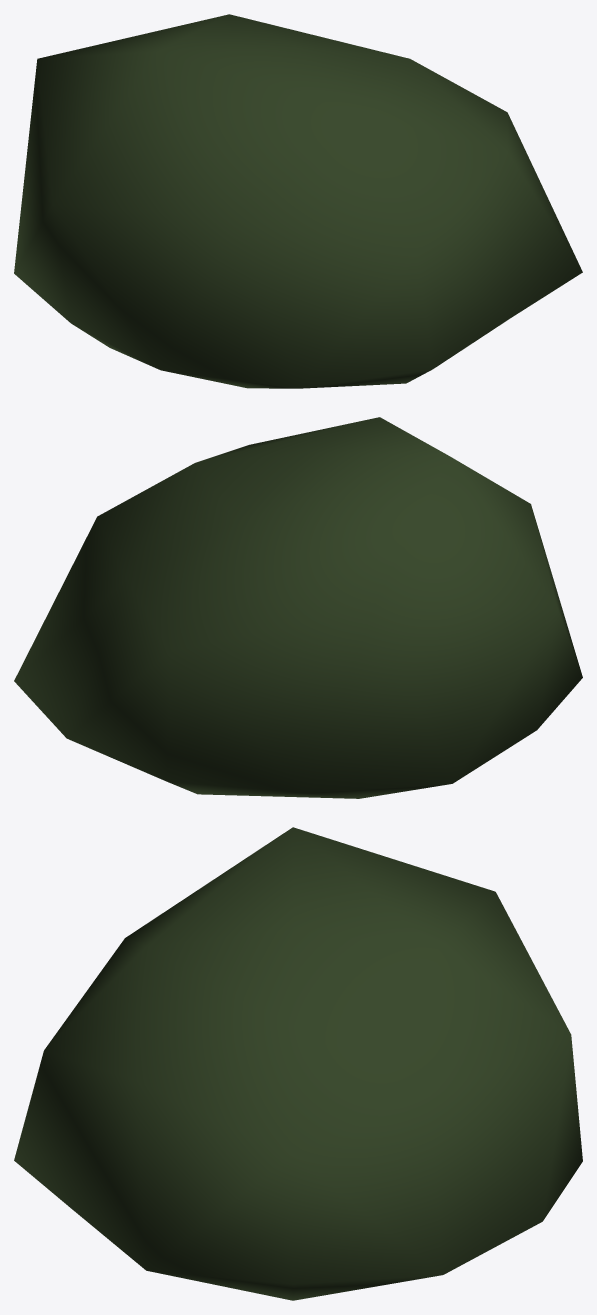
The model's file is RockSmall02.fbx.
The picture shows the model from 3 angles, top to bottom: view 1: azimuth 30°, elevation 25°; view 2: azimuth 150°, elevation 25°; view 3: azimuth 270°, elevation 25°; orthographic projection. The views are drawn at different scales.
Visible parts, largest first — view 1: RockSmall02; view 2: RockSmall02; view 3: RockSmall02.
Part boxes in pixels (bbox=[...]): RockSmall02: bbox=[14, 14, 582, 388]; RockSmall02: bbox=[14, 417, 582, 798]; RockSmall02: bbox=[14, 827, 582, 1300].
Bounding box in the file's own units: 5.71 × 3.51 × 5.55.
